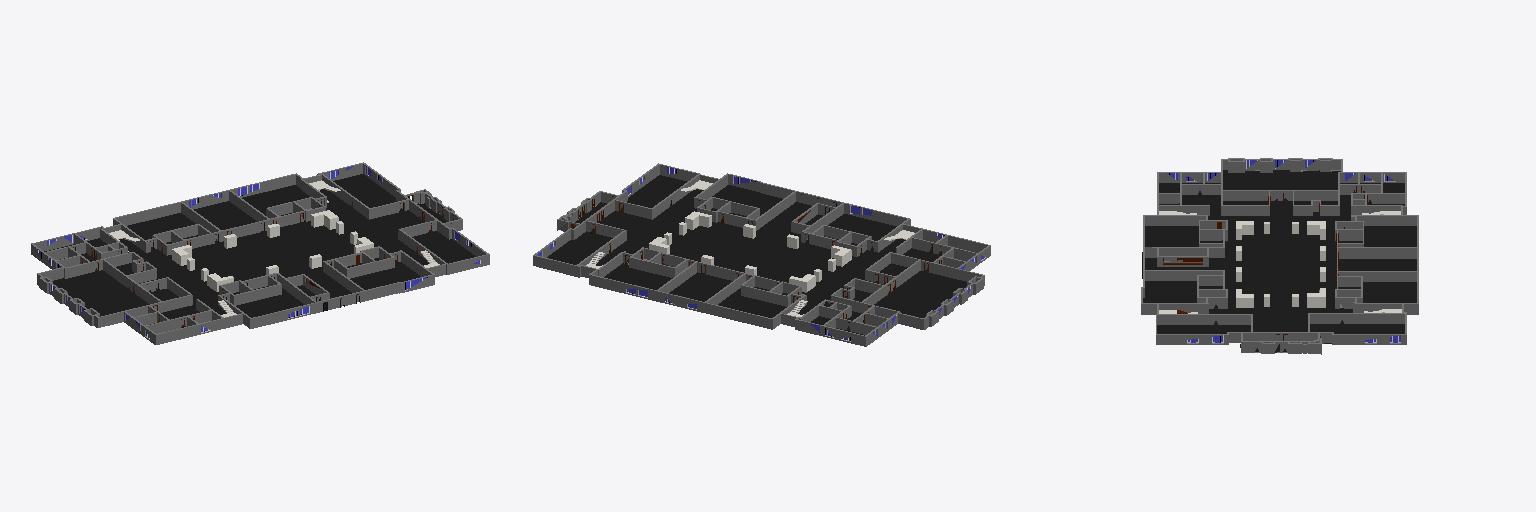
File: hewson.obj
3 renders of one model, left to right at view 1: azimuth 30°, elevation 25°; view 2: azimuth 150°, elevation 25°; view 3: azimuth 270°, elevation 25°, orthographic.
Visible parts, largest first — view 1: Plane, Plane.027, Plane.019, Plane.048, Plane.042, Plane.032, Plane.016, Plane.028, Plane.013, Plane.023, Plane.029, Plane.026 (+2 smaller); view 2: Plane, Plane.027, Plane.019, Plane.048, Plane.042, Plane.032, Plane.016, Plane.013, Plane.028, Plane.023, Plane.039, Plane.026 (+3 smaller); view 3: Plane, Plane.027, Plane.019, Plane.048, Plane.032, Plane.042, Plane.023, Plane.026, Plane.039, Plane.029, Plane.028, Plane.016 (+1 smaller).
Part boxes in pixels (x1,y1,x2,y2): Plane: (31, 162, 489, 344); Plane.027: (211, 229, 322, 277); Plane.019: (280, 218, 398, 260); Plane.048: (53, 270, 149, 316); Plane.042: (138, 249, 218, 303); Plane.032: (168, 245, 255, 292); Plane.016: (333, 174, 402, 210); Plane.028: (194, 201, 256, 229); Plane.013: (412, 231, 475, 263); Plane.023: (350, 262, 420, 289); Plane.029: (127, 213, 216, 248); Plane.026: (242, 185, 309, 215); Plane: (533, 163, 990, 346); Plane.027: (699, 230, 811, 277); Plane.019: (625, 218, 742, 264); Plane.048: (874, 271, 966, 317); Plane.042: (804, 257, 876, 307); Plane.032: (768, 245, 853, 293); Plane.016: (547, 231, 612, 264); Plane.013: (621, 175, 686, 211); Plane.028: (669, 272, 732, 301); Plane.023: (712, 185, 782, 216); Plane.039: (806, 214, 896, 250); Plane.026: (604, 263, 672, 289); Plane: (1141, 158, 1418, 354); Plane.027: (1223, 253, 1336, 285); Plane.019: (1225, 286, 1336, 323); Plane.048: (1223, 170, 1340, 200); Plane.032: (1225, 231, 1336, 252); Plane.042: (1223, 215, 1350, 231); Plane.023: (1143, 281, 1221, 302); Plane.026: (1342, 282, 1416, 302); Plane.039: (1145, 226, 1198, 246); Plane.029: (1364, 226, 1416, 246); Plane.028: (1338, 259, 1416, 270); Plane.016: (1310, 324, 1404, 343).
Size of the model in its own units: 93.89 by 2.71 by 59.25.